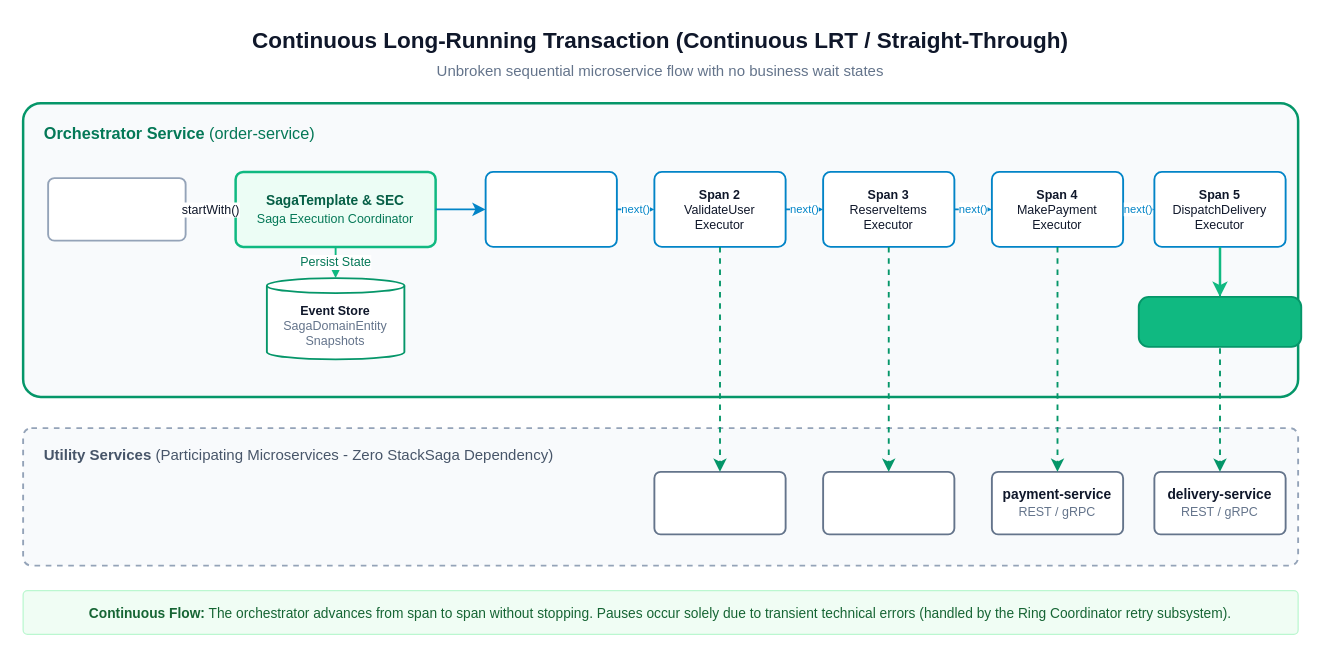
The diagram is 1324 pixels wide and 656 high, and some of its shapes have lost their labels. Each missing label, with the centre of its shape:
Client Request POST /orders: [116,209]
COMPLETED stepManager.complete(): [1219,321]
inventory-service REST / gRPC: [888,502]
Span 1 InitializeOrder Executor: [550,208]
user-service REST / gRPC: [719,502]
